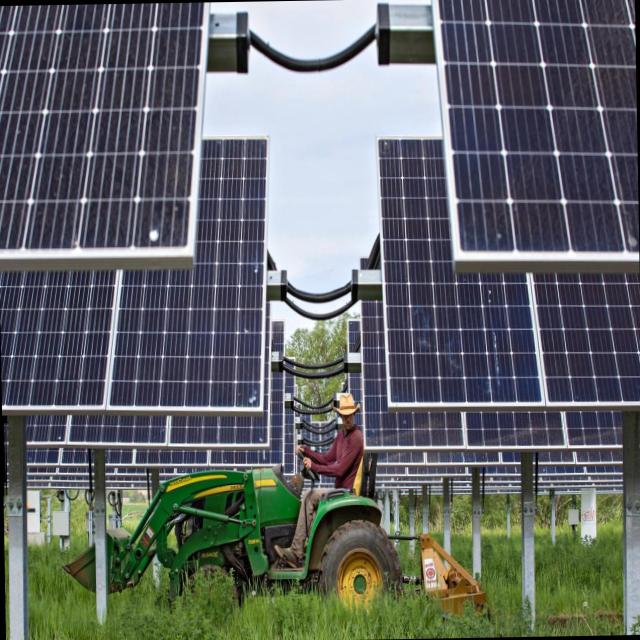faulty: (376, 134, 640, 414), (1, 144, 266, 415), (0, 6, 203, 264), (448, 0, 638, 246), (361, 297, 620, 446)
